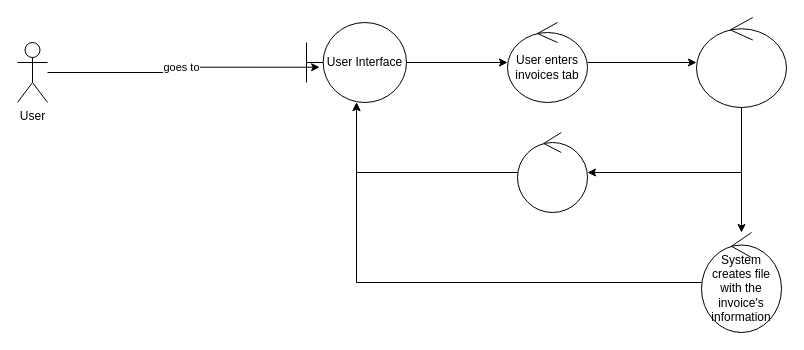
Some shapes in this 804 by 350 pixel diagram are drawn without their labels. The shapes that lost their labels are listed below. From the top down, each one's centre as x and y in pixels, then its label:
At pixel 741 62: "User click Export button on desired invoice".
At pixel 552 172: "Error message display".
